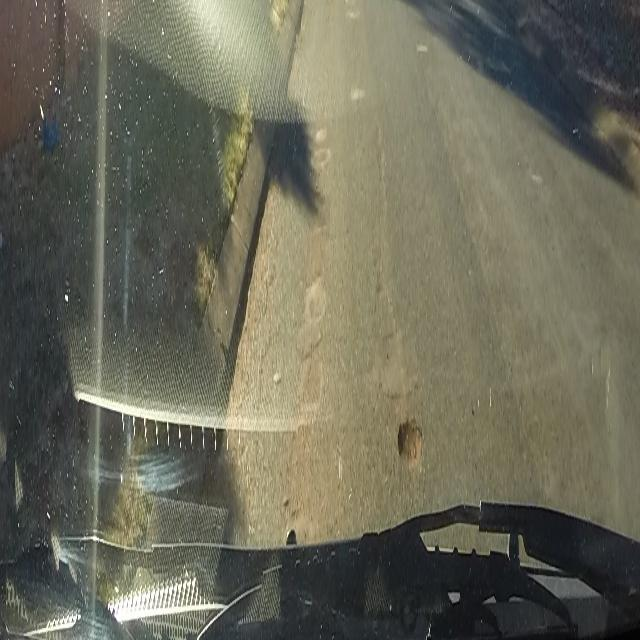pothole: (388, 414, 430, 475)
